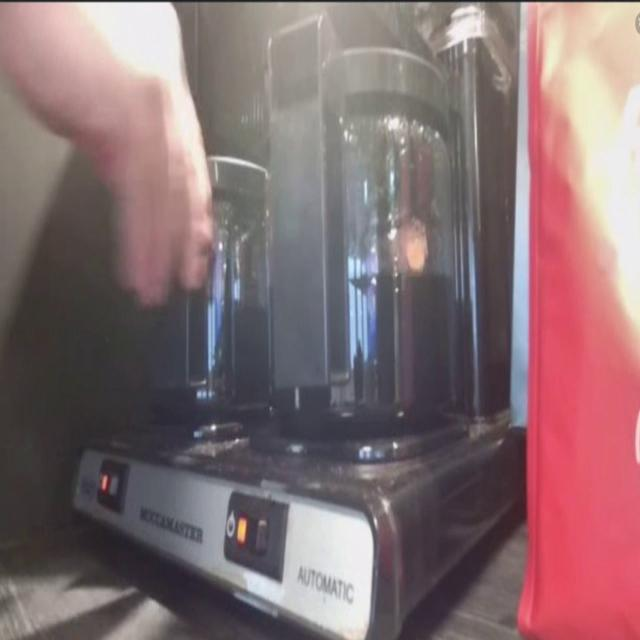coffee: (288, 134, 447, 423), (147, 301, 273, 414)
